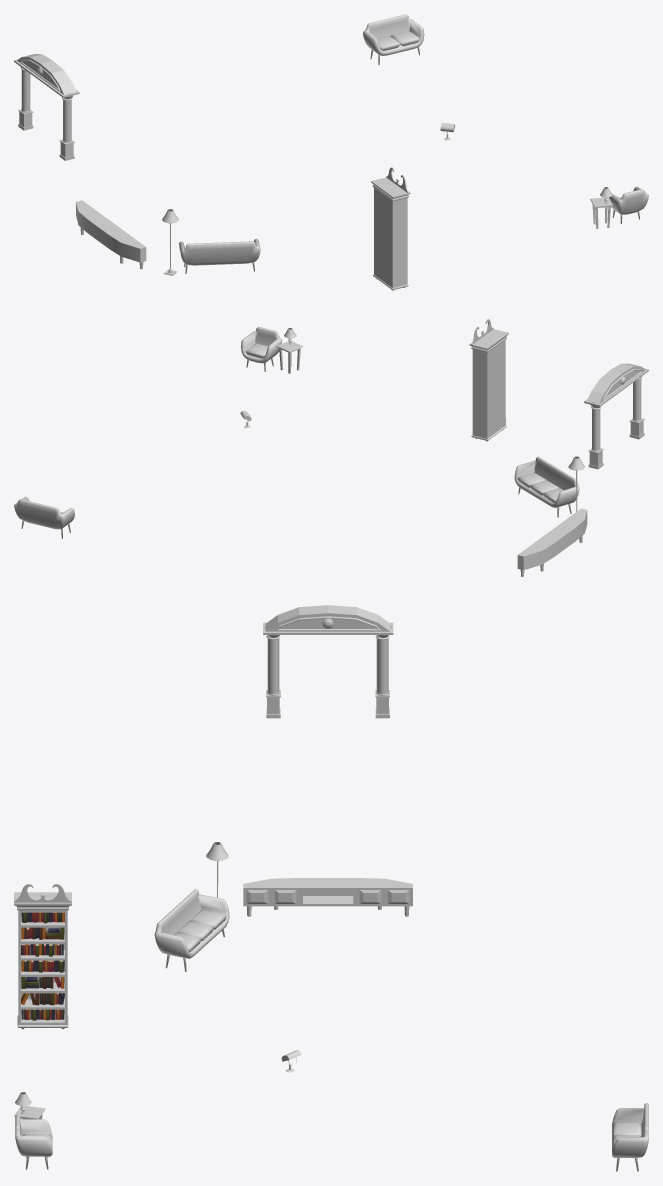
File: Extra_Objects.fbx
3 views of the same model, one above another, from view 1: azimuth 30°, elevation 25°; view 2: azimuth 150°, elevation 25°; view 3: azimuth 270°, elevation 25° (orthographic). The views are drawn at different scales.
Parts seen in each view (by area): view 1: Bookshelf_Small, Desoire, 3-Sofa, 2-Sofa, Pillar_Top, Chair, Pillar, Pillar.001; view 2: Bookshelf_Small, Desoire, 3-Sofa, Pillar_Top, 2-Sofa, Chair, Pillar.001, Pillar, Side Table; view 3: Desoire, Bookshelf_Small, Pillar_Top, 3-Sofa, 2-Sofa, Chair, Pillar, Pillar.001.
Boxes of the visible parts, x1,y1,x2,y2 form: Bookshelf_Small: (371,167,410,290); Desoire: (76,200,146,262); 3-Sofa: (179,238,260,265); 2-Sofa: (363,14,424,55); Pillar_Top: (14,54,79,97); Chair: (609,186,648,214); Pillar: (59,92,74,160); Pillar.001: (18,67,33,130); Bookshelf_Small: (469,319,508,441); Desoire: (517,508,587,570); 3-Sofa: (514,456,579,507); Pillar_Top: (584,363,648,406); 2-Sofa: (14,496,74,529); Chair: (241,327,282,363); Pillar.001: (588,402,603,469); Pillar: (629,376,644,439); Side Table: (276,341,303,373); Desoire: (243,878,412,906); Bookshelf_Small: (14,884,71,1029); Pillar_Top: (263,605,393,634); 3-Sofa: (154,889,229,958); 2-Sofa: (612,1103,648,1157); Chair: (15,1114,52,1156); Pillar: (264,626,280,718); Pillar.001: (375,626,391,718).
Size of the model in its own units: 4763 by 1843 by 4003.
